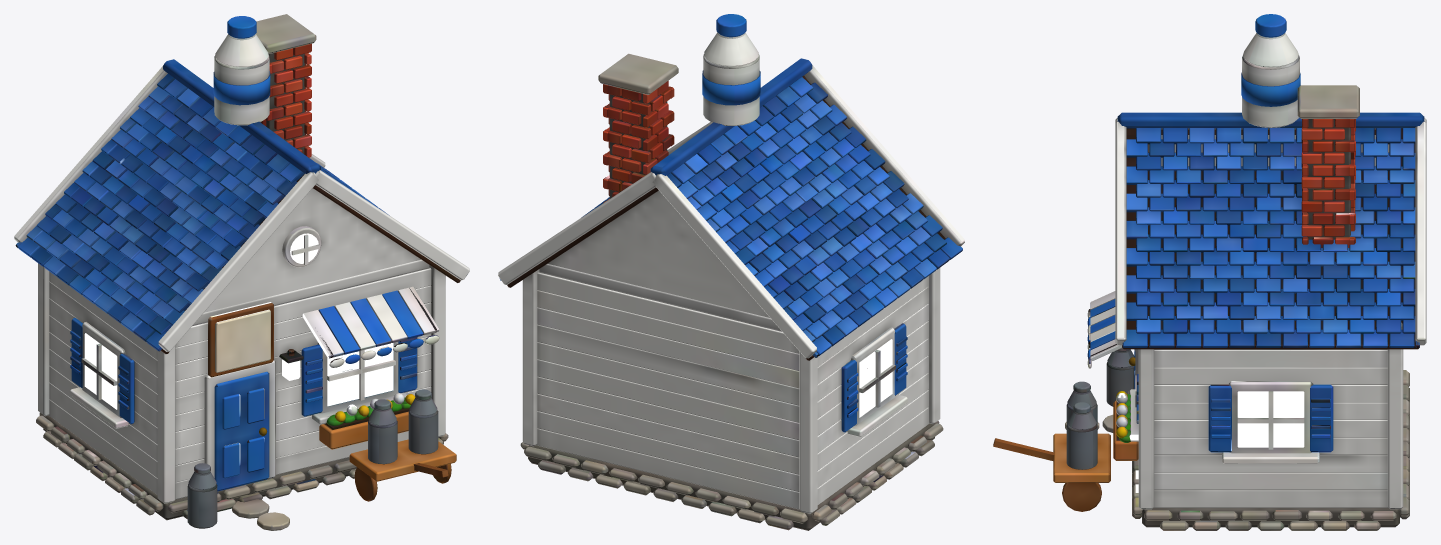
Rendered from dairy.glb.
The picture shows the model from 3 angles, left to right: view 1: azimuth 30°, elevation 25°; view 2: azimuth 150°, elevation 25°; view 3: azimuth 270°, elevation 25°; orthographic projection. The views are drawn at different scales.
Parts seen in each view (by area): view 1: dairy; view 2: dairy; view 3: dairy.
Boxes of the visible parts, x1,y1,x2,y2 form: dairy: [14, 14, 469, 530]; dairy: [498, 14, 964, 530]; dairy: [993, 14, 1426, 530].
Size of the model in its own units: 1.68 by 2.18 by 1.95.
Materials: 1 (1 with a texture image).
